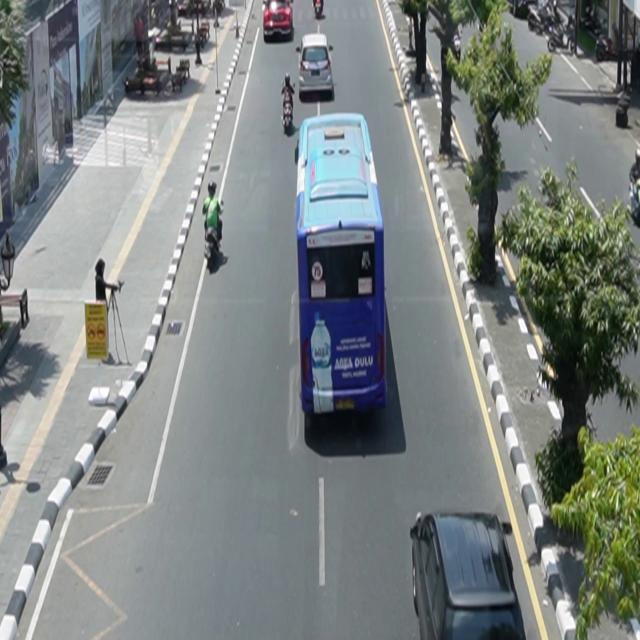bus: (295, 113, 388, 419)
car: (411, 511, 528, 640), (297, 33, 336, 101)
